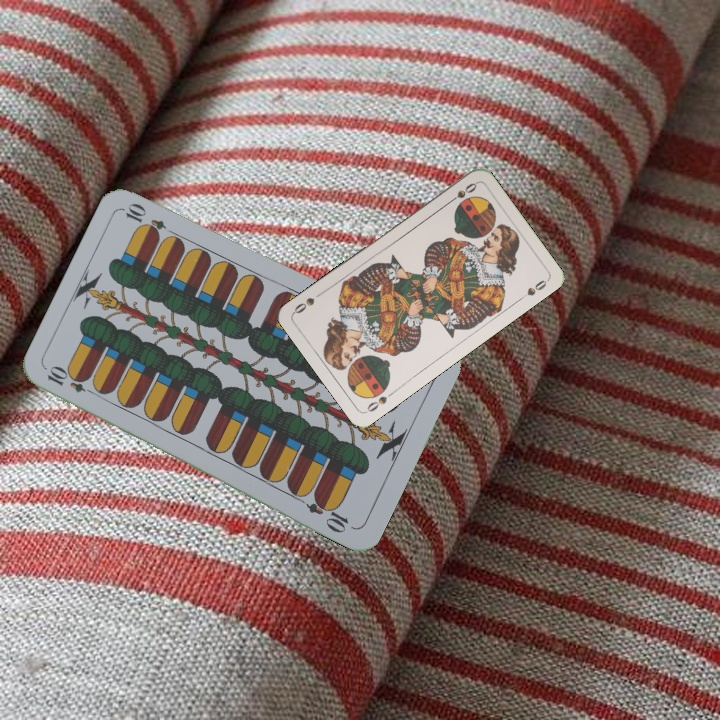E10: (43, 364, 100, 398)
SO: (444, 178, 479, 207), (362, 387, 398, 415)
